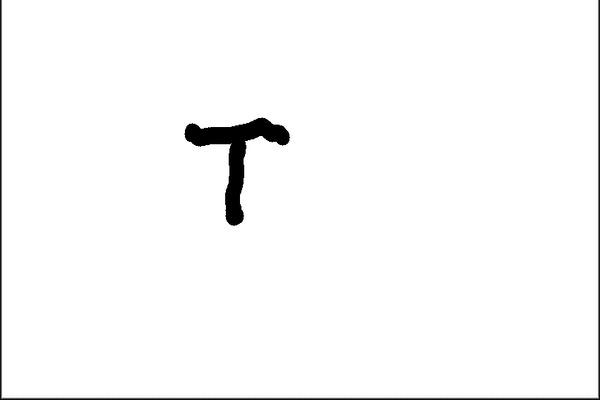T: (181, 111, 306, 226)
